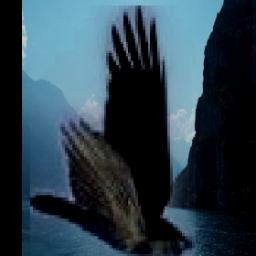Crow: (31, 7, 197, 256)
